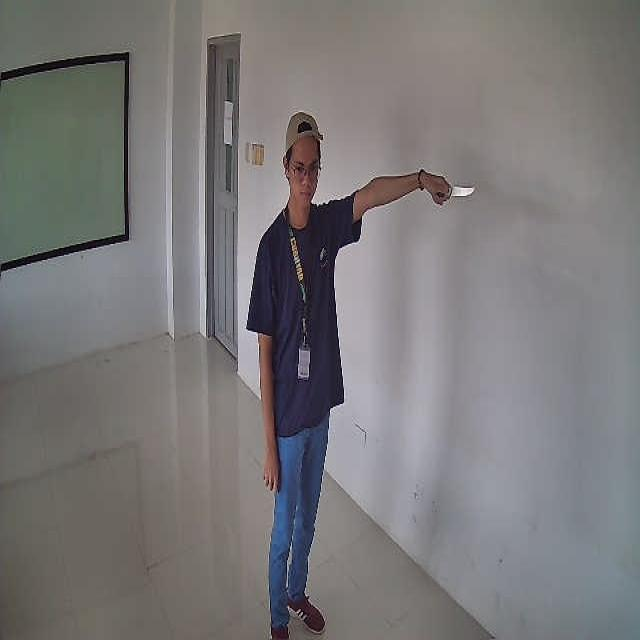knife: (449, 184, 477, 197)
